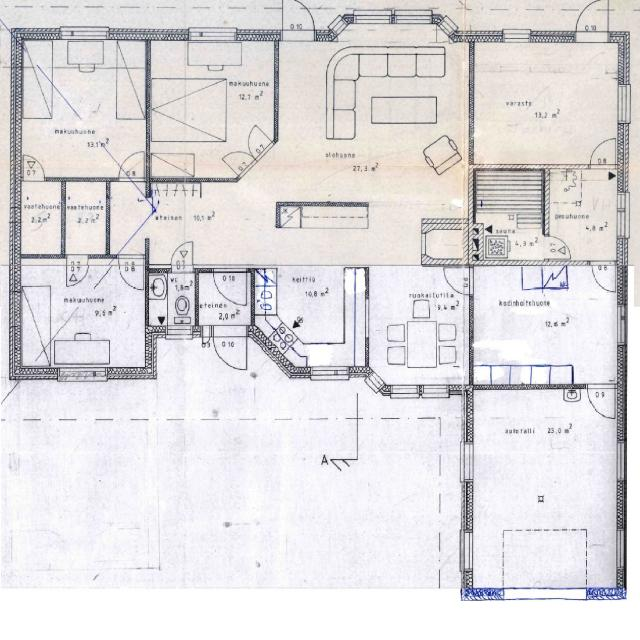door: (212, 324, 246, 372), (576, 0, 609, 42), (239, 124, 275, 162), (222, 141, 258, 178), (282, 0, 314, 41), (214, 269, 246, 306), (588, 385, 615, 417), (443, 268, 473, 294), (118, 254, 143, 284), (591, 138, 616, 168), (119, 152, 144, 181), (592, 261, 616, 289), (543, 236, 572, 259), (66, 254, 89, 282), (172, 246, 194, 273), (22, 155, 44, 181), (202, 324, 211, 345)
